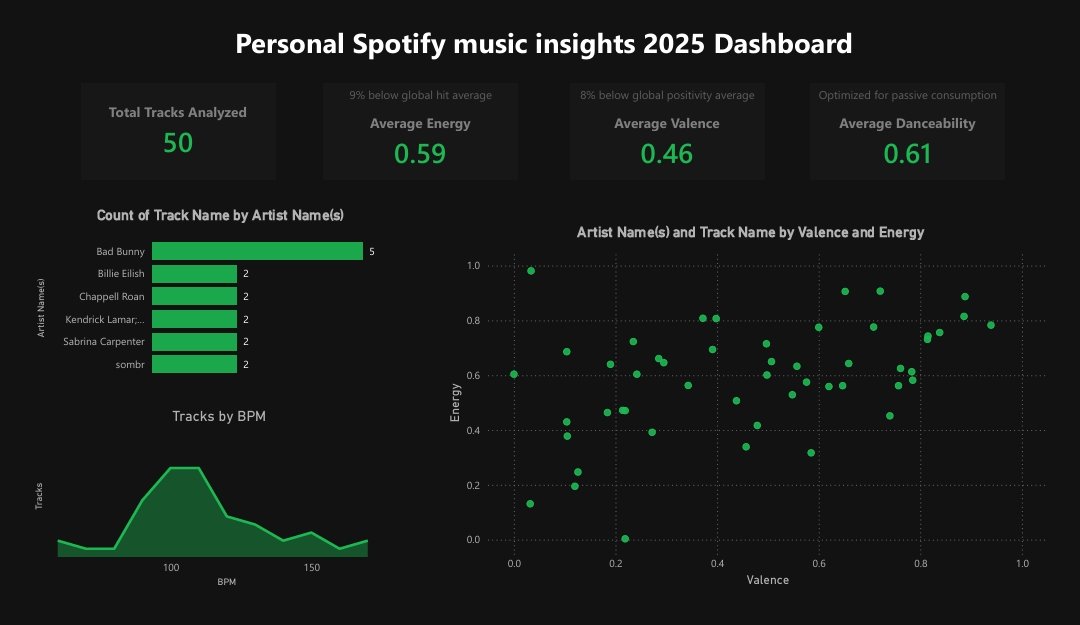

The page's visual inventory and layout, read from the dashboard file:
{"tool":"powerbi","page":{"name":"Page 1","canvas":[1280,720],"ordinal":0},"visuals":[{"type":"cardVisual","fields":{"Data":["_Key Metrics (2).Total Tracks Analyzed"]},"box":[99.4,96.7,227,112.9],"z":0},{"type":"cardVisual","fields":{"Data":["_Key Metrics (2).Average Danceability"]},"box":[952.2,96.7,227,112.9],"z":1000},{"type":"cardVisual","fields":{"Data":["_Key Metrics (2).Average Energy"]},"box":[382.8,96.9,227,112.9],"z":2000},{"type":"cardVisual","fields":{"Data":["_Key Metrics (2).Average Valence"]},"box":[671.2,96.9,227,112.9],"z":3000},{"type":"scatterChart","fields":{"X":["Cleaned_Spotify_Data_2025.Valence"],"Y":["Cleaned_Spotify_Data_2025.Energy"]},"box":[522.7,261.4,719,429.5],"z":4000},{"type":"clusteredBarChart","fields":{"Category":["Cleaned_Spotify_Data_2025.Artist Name(s)"],"Y":["CountNonNull(Cleaned_Spotify_Data_2025.Track Name)"]},"box":[41.7,240.5,440.5,212.3],"z":5000},{"type":"areaChart","fields":{"Y":["CountNonNull(Cleaned_Spotify_Data_2025.Track Name)"],"Category":["Cleaned_Spotify_Data_2025.Tempo (bins)"]},"box":[39.3,476.1,442.9,214.7],"z":6000},{"type":"textbox","box":[195.1,22.1,890.8,55.2],"z":7000}]}

Visuals, with their boxes in screenshot pixels (x1, y1, x2, y2), scaled from the page's 1280x720 canvas onto the 1080x625 screenshot:
cardVisual - _Key Metrics (2).Total Tracks Analyzed: (84,84,275,182)
cardVisual - _Key Metrics (2).Average Danceability: (803,84,995,182)
cardVisual - _Key Metrics (2).Average Energy: (323,84,515,182)
cardVisual - _Key Metrics (2).Average Valence: (566,84,758,182)
scatterChart - Cleaned_Spotify_Data_2025.Valence x Cleaned_Spotify_Data_2025.Energy: (441,227,1048,600)
clusteredBarChart - Cleaned_Spotify_Data_2025.Artist Name(s) x CountNonNull(Cleaned_Spotify_Data_2025.Track Name): (35,209,407,393)
areaChart - CountNonNull(Cleaned_Spotify_Data_2025.Track Name) x Cleaned_Spotify_Data_2025.Tempo (bins): (33,413,407,600)
textbox: (165,19,916,67)
